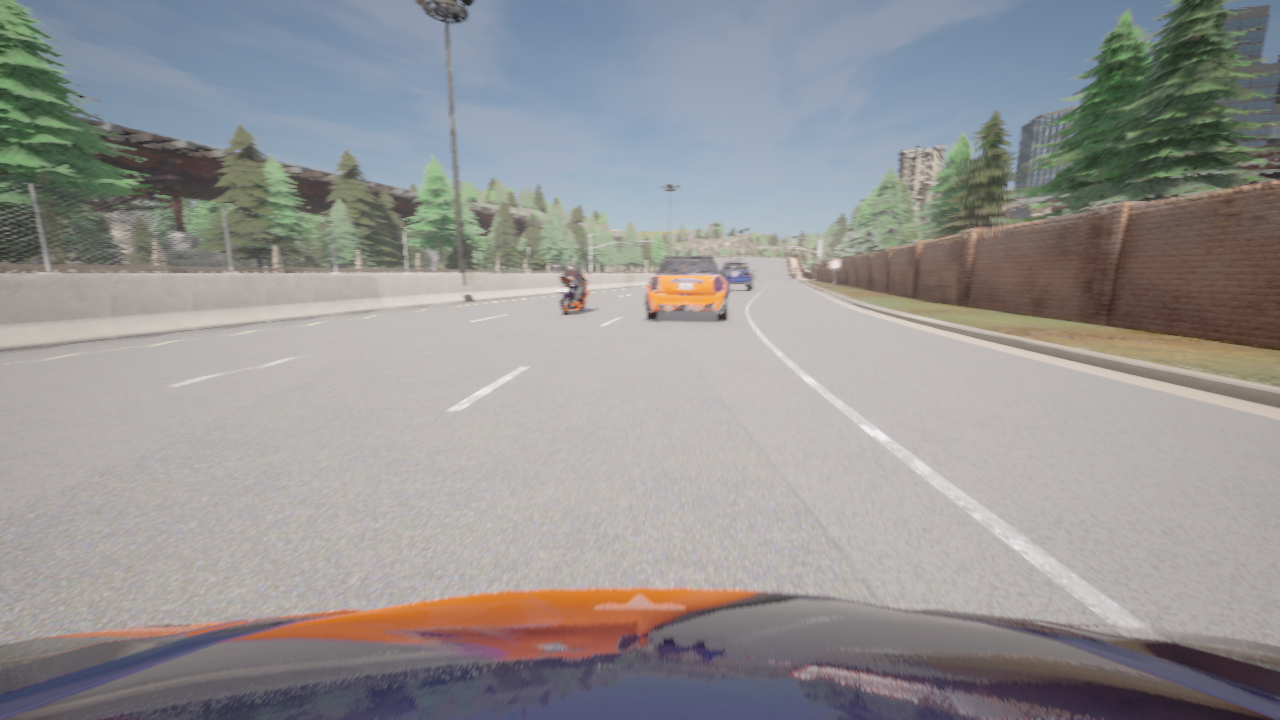cyclist: (0, 588, 1279, 719), (645, 251, 729, 320), (555, 274, 592, 315), (720, 261, 755, 290)
